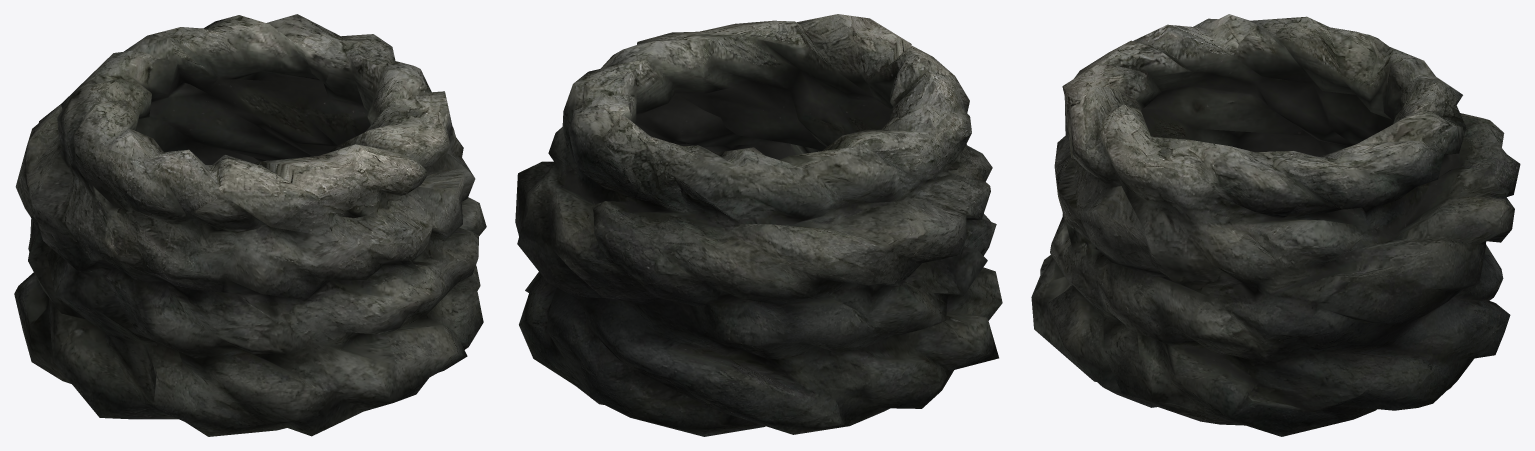
The model's file is rope+3d+model.glb.
3 views of the same model, side by side, from view 1: azimuth 30°, elevation 25°; view 2: azimuth 150°, elevation 25°; view 3: azimuth 270°, elevation 25° (orthographic).
Parts seen in each view (by area): view 1: tripo_node_180a1c71-05f4-44ec-89f5-79fe5f1128d7; view 2: tripo_node_180a1c71-05f4-44ec-89f5-79fe5f1128d7; view 3: tripo_node_180a1c71-05f4-44ec-89f5-79fe5f1128d7.
Boxes of the visible parts, x1=… form: tripo_node_180a1c71-05f4-44ec-89f5-79fe5f1128d7: x1=14, y1=14, x2=486, y2=436; tripo_node_180a1c71-05f4-44ec-89f5-79fe5f1128d7: x1=515, y1=14, x2=1002, y2=436; tripo_node_180a1c71-05f4-44ec-89f5-79fe5f1128d7: x1=1031, y1=14, x2=1520, y2=436.
Size of the model in its own units: 0.9864 by 0.6147 by 1.
Materials: 1 (1 with a texture image).
